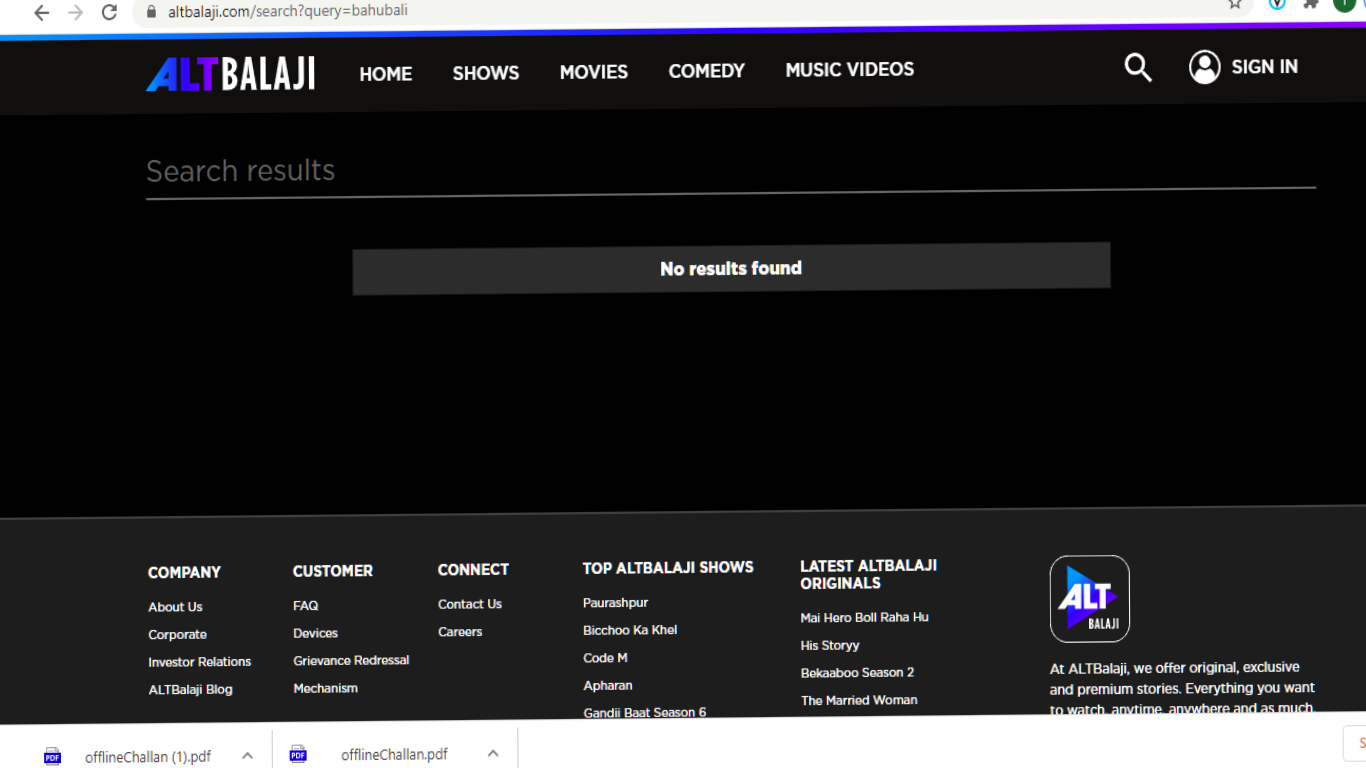noresultsfound: (342, 241, 1130, 297)
profileicon: (1174, 45, 1307, 89)
searchicon: (1111, 45, 1172, 89)
searchtextbox: (137, 131, 1323, 209)
